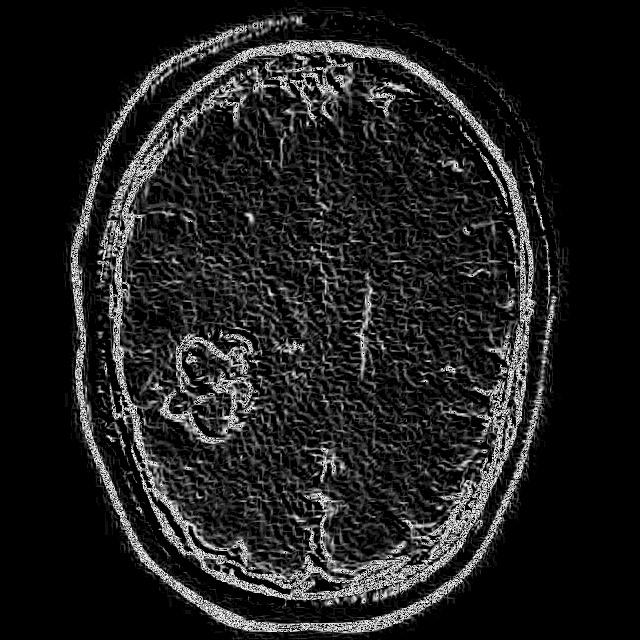Brain-Tumor: (143, 319, 275, 453)
